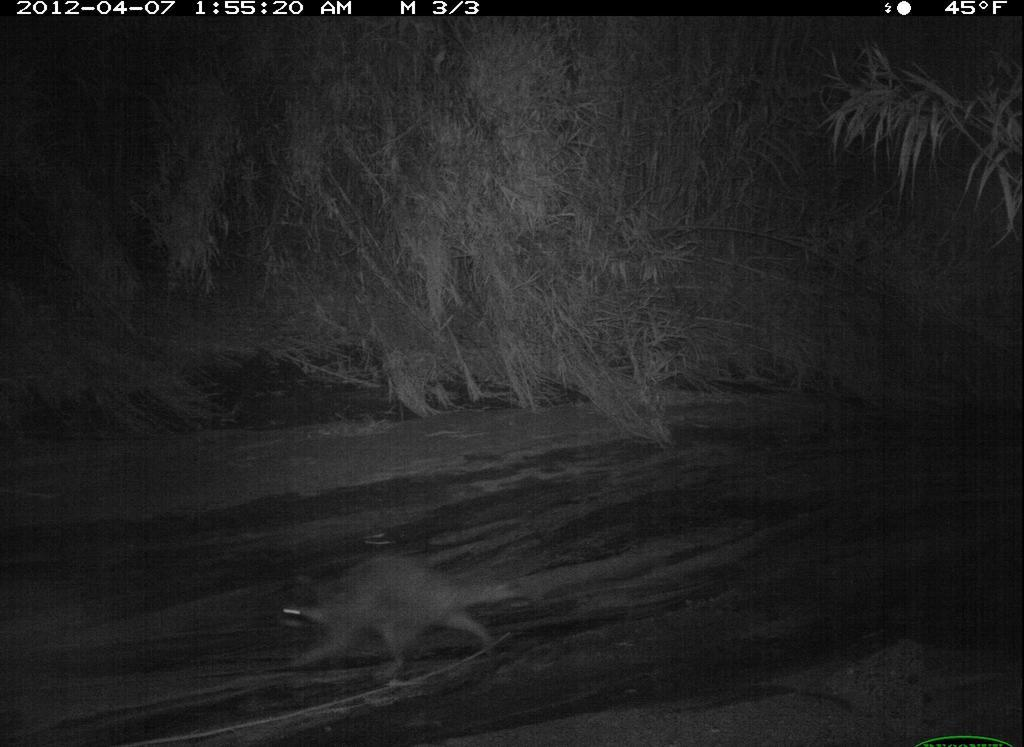raccoon: (257, 543, 547, 698)
